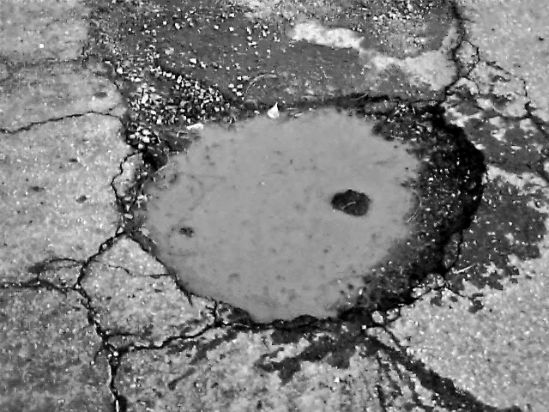pothole: (119, 85, 492, 335)
